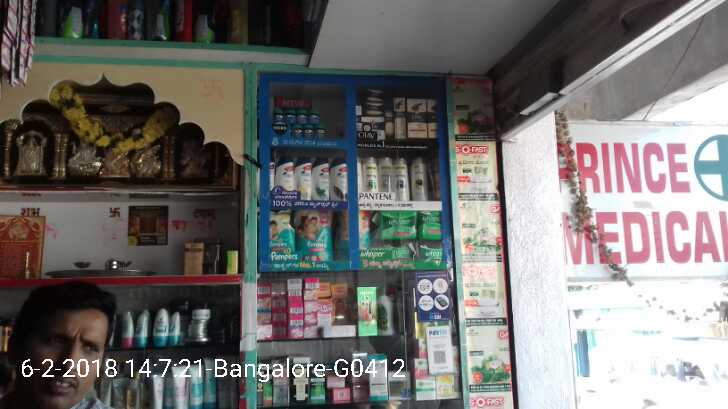beauty: (276, 156, 295, 198), (410, 159, 429, 199), (329, 160, 346, 200), (312, 156, 327, 198), (298, 156, 311, 199), (395, 159, 409, 198), (363, 156, 376, 194), (407, 117, 428, 138), (379, 159, 391, 195), (363, 118, 384, 136), (406, 99, 426, 114), (365, 87, 382, 102), (395, 117, 405, 139), (392, 96, 405, 112), (366, 105, 382, 115)
pharmacy: (293, 211, 333, 256), (380, 211, 416, 240), (267, 215, 292, 256), (421, 211, 443, 240), (419, 241, 444, 260), (274, 107, 285, 127), (308, 110, 321, 122), (286, 110, 297, 123), (292, 126, 301, 141), (298, 110, 308, 123), (304, 126, 313, 139), (315, 126, 325, 137)
